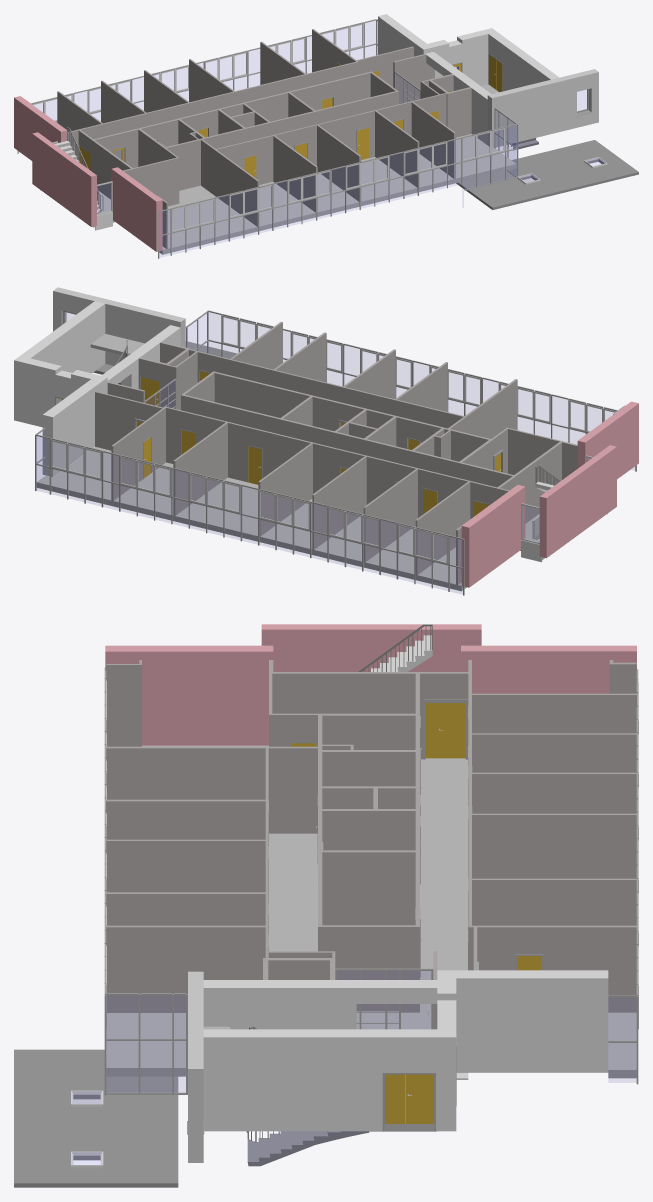
File: Riihimaki3F.glb
3 renders of one model, top to bottom at view 1: azimuth 30°, elevation 25°; view 2: azimuth 150°, elevation 25°; view 3: azimuth 270°, elevation 25°, orthographic. The views are drawn at different scales.
Visible parts, largest first — view 1: IfcSlab/Floor:VP 300mm:743826, IfcSlab/Basic Roof:Vesikatto - 160mm:676792:1, IfcWallStandardCase/Basic Wall:US kantava - 500mm:844260, IfcWallStandardCase/Basic Wall:Exterior - Brick on Mtl. Stu. (×2), IfcWallStandardCase/Basic Wall:VS - 140mm:825325, IfcWallStandardCase/Basic Wall:VS - 100mm:831422, IfcWallStandardCase/Basic Wall:VS - 110mm:820915, IfcWallStandardCase/Basic Wall:VS - 140mm:825324, IfcWallStandardCase/Basic Wall:Exterior - Brick on Mtl. Stud, IfcWallStandardCase/Basic Wall:VS - 120mm:831952, IfcWallStandardCase/Basic Wall:VS Kantava- 600mm:889204, IfcWallStandardCase/Basic Wall:VS Kantava- 600mm:839744 (+40 smaller); view 2: IfcSlab/Floor:VP 300mm:743826, IfcWallStandardCase/Basic Wall:Exterior - Brick on Mtl. Stu. (×2), IfcWallStandardCase/Basic Wall:VS - 110mm:820915, IfcWallStandardCase/Basic Wall:VS - 140mm:825324, IfcWallStandardCase/Basic Wall:VS - 140mm:825325, IfcWallStandardCase/Basic Wall:VS - 100mm:831422, IfcWallStandardCase/Basic Wall:US kantava - 500mm:844260, 3F1, IfcWallStandardCase/Basic Wall:VS Kantava- 600mm:889204, IfcWallStandardCase/Basic Wall:VS Kantava- 600mm:839744, IfcWallStandardCase/Basic Wall:VS - 110mm:822388, IfcWallStandardCase/Basic Wall:VS - 110mm:822050 (+53 smaller); view 3: IfcSlab/Floor:VP 300mm:743826, IfcWallStandardCase/Basic Wall:VS Kantava- 600mm:839744, IfcSlab/Basic Roof:Vesikatto - 160mm:676792:1, IfcWallStandardCase/Basic Wall:Exterior - Brick on Mtl. Stu. (×2), 3F1, IfcWallStandardCase/Basic Wall:Exterior - Brick on Mtl. Stud, IfcWallStandardCase/Basic Wall:VS - 120mm:831952, IfcWallStandardCase/Basic Wall:VS - 120mm:832675, IfcWallStandardCase/Basic Wall:VS - 110mm:822240, IfcWallStandardCase/Basic Wall:VS Kantava- 600mm:889266, IfcWallStandardCase/Basic Wall:VS - 120mm:832657, IfcWallStandardCase/Basic Wall:VS - 110mm:822477 (+33 smaller).
Part boxes in pixels (x1=…): IfcSlab/Floor:VP 300mm:743826: x1=92, y1=84, x2=516, y2=254; IfcSlab/Basic Roof:Vesikatto - 160mm:676792:1: x1=456, y1=140, x2=638, y2=209; IfcWallStandardCase/Basic Wall:US kantava - 500mm:844260: x1=487, y1=69, x2=598, y2=148; IfcWallStandardCase/Basic Wall:Exterior - Brick on Mtl. Stu. (×2): x1=14, y1=96, x2=96, y2=226; IfcWallStandardCase/Basic Wall:VS - 140mm:825325: x1=94, y1=72, x2=370, y2=168; IfcWallStandardCase/Basic Wall:VS - 100mm:831422: x1=216, y1=93, x2=446, y2=184; IfcWallStandardCase/Basic Wall:VS - 110mm:820915: x1=68, y1=62, x2=357, y2=159; IfcWallStandardCase/Basic Wall:VS - 140mm:825324: x1=166, y1=91, x2=396, y2=190; IfcWallStandardCase/Basic Wall:Exterior - Brick on Mtl. Stud: x1=111, y1=167, x2=162, y2=251; IfcWallStandardCase/Basic Wall:VS - 120mm:831952: x1=201, y1=139, x2=259, y2=226; IfcWallStandardCase/Basic Wall:VS Kantava- 600mm:889204: x1=418, y1=28, x2=496, y2=85; IfcWallStandardCase/Basic Wall:VS Kantava- 600mm:839744: x1=488, y1=32, x2=559, y2=91; IfcSlab/Floor:VP 300mm:743826: x1=36, y1=447, x2=544, y2=591; IfcWallStandardCase/Basic Wall:Exterior - Brick on Mtl. Stu. (×2): x1=461, y1=445, x2=616, y2=587; IfcWallStandardCase/Basic Wall:VS - 110mm:820915: x1=166, y1=407, x2=509, y2=518; IfcWallStandardCase/Basic Wall:VS - 140mm:825324: x1=214, y1=372, x2=489, y2=461; IfcWallStandardCase/Basic Wall:VS - 140mm:825325: x1=183, y1=395, x2=513, y2=487; IfcWallStandardCase/Basic Wall:VS - 100mm:831422: x1=189, y1=349, x2=464, y2=428; IfcWallStandardCase/Basic Wall:US kantava - 500mm:844260: x1=53, y1=287, x2=185, y2=365; 3F1: x1=42, y1=379, x2=101, y2=476; IfcWallStandardCase/Basic Wall:VS Kantava- 600mm:889204: x1=14, y1=356, x2=107, y2=427; IfcWallStandardCase/Basic Wall:VS Kantava- 600mm:839744: x1=20, y1=301, x2=105, y2=373; IfcWallStandardCase/Basic Wall:VS - 110mm:822388: x1=173, y1=422, x2=227, y2=515; IfcWallStandardCase/Basic Wall:VS - 110mm:822050: x1=312, y1=456, x2=366, y2=549; IfcSlab/Floor:VP 300mm:743826: x1=106, y1=745, x2=636, y2=1131; IfcWallStandardCase/Basic Wall:VS Kantava- 600mm:839744: x1=203, y1=1029, x2=437, y2=1131; IfcSlab/Basic Roof:Vesikatto - 160mm:676792:1: x1=14, y1=1049, x2=178, y2=1187; IfcWallStandardCase/Basic Wall:Exterior - Brick on Mtl. Stu. (×2): x1=261, y1=624, x2=636, y2=693; 3F1: x1=456, y1=970, x2=608, y2=1071; IfcWallStandardCase/Basic Wall:Exterior - Brick on Mtl. Stud: x1=105, y1=645, x2=273, y2=745; IfcWallStandardCase/Basic Wall:VS - 120mm:831952: x1=106, y1=746, x2=317, y2=833; IfcWallStandardCase/Basic Wall:VS - 120mm:832675: x1=106, y1=925, x2=265, y2=1012; IfcWallStandardCase/Basic Wall:VS - 110mm:822240: x1=472, y1=813, x2=636, y2=878; IfcWallStandardCase/Basic Wall:VS Kantava- 600mm:889266: x1=203, y1=980, x2=437, y2=1029; IfcWallStandardCase/Basic Wall:VS - 120mm:832657: x1=106, y1=839, x2=265, y2=892; IfcWallStandardCase/Basic Wall:VS - 110mm:822477: x1=468, y1=925, x2=636, y2=1012.
Bounding box in the file's own units: 33.57 × 6.06 × 19.94.
